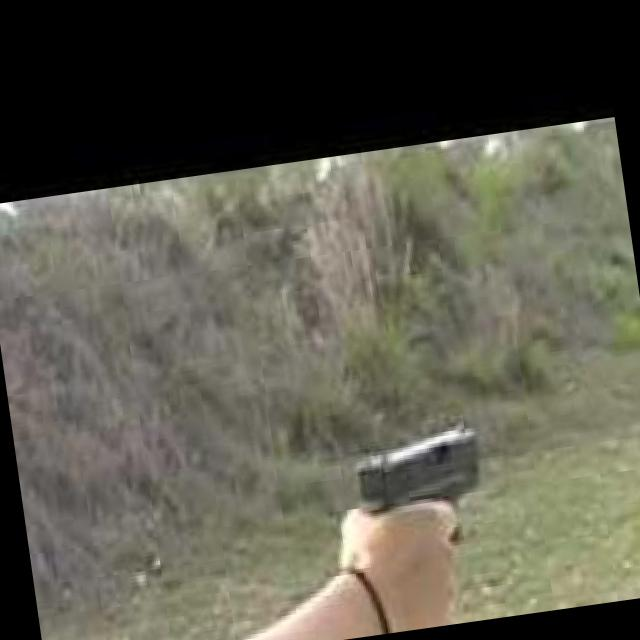Guns: (298, 337, 523, 640)
